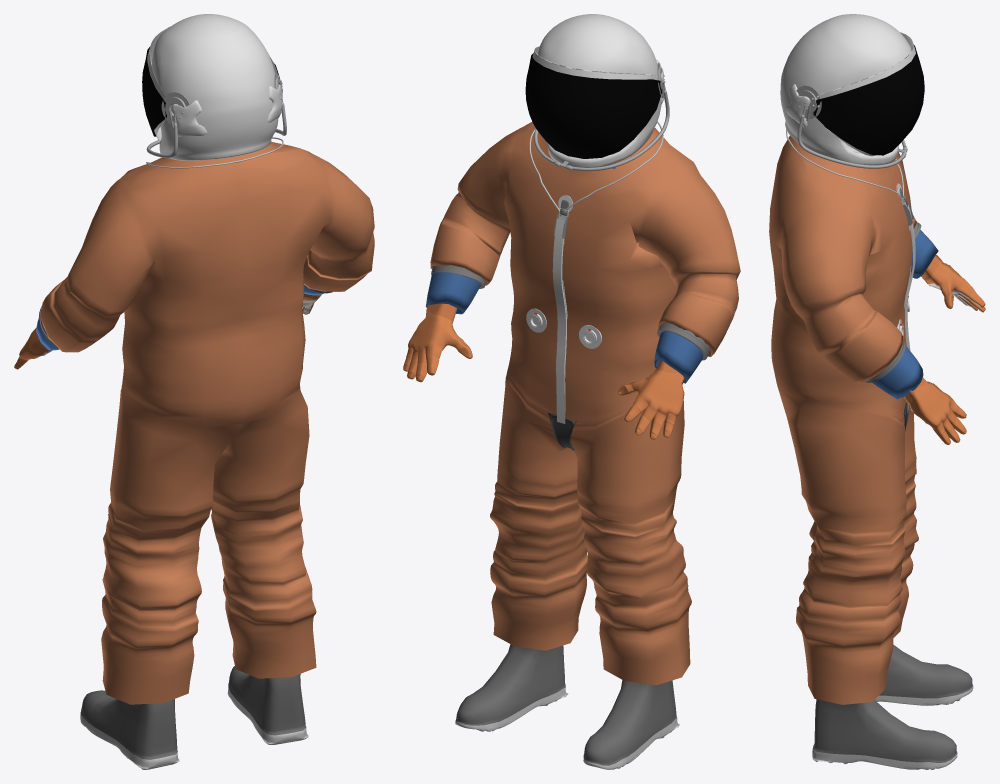
Rendered from ACES.fbx.
The picture shows the model from 3 angles, left to right: view 1: azimuth 30°, elevation 25°; view 2: azimuth 150°, elevation 25°; view 3: azimuth 270°, elevation 25°; orthographic projection. The views are drawn at different scales.
Visible parts, largest first — view 1: acesjustforroomshow:polySurface1; view 2: acesjustforroomshow:polySurface1; view 3: acesjustforroomshow:polySurface1.
Part boxes in pixels (bbox=[...]): acesjustforroomshow:polySurface1: bbox=[14, 14, 374, 769]; acesjustforroomshow:polySurface1: bbox=[403, 14, 740, 769]; acesjustforroomshow:polySurface1: bbox=[769, 14, 985, 769].
Bounding box in the file's own units: 0.8872 × 2 × 0.5549.
